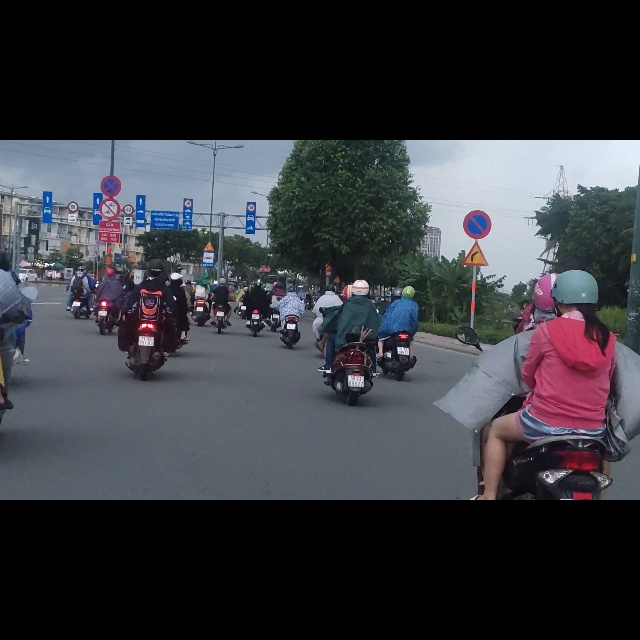bien_chi_dan: (462, 123, 491, 178), (462, 181, 488, 224), (101, 63, 122, 102), (99, 103, 120, 140), (202, 199, 215, 226), (202, 180, 215, 199), (67, 109, 79, 129), (123, 114, 133, 133), (123, 136, 133, 153), (247, 113, 255, 129), (184, 105, 192, 120)
